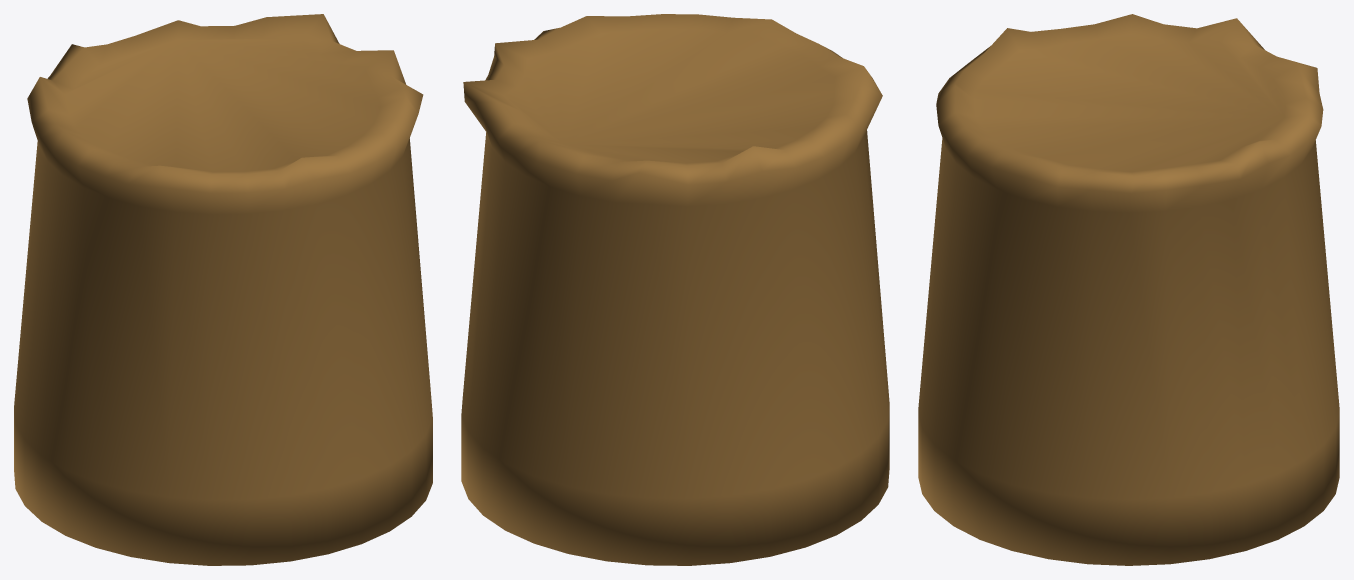
The model's file is treestump.fbx.
The picture shows the model from 3 angles, left to right: view 1: azimuth 30°, elevation 25°; view 2: azimuth 150°, elevation 25°; view 3: azimuth 270°, elevation 25°; orthographic projection. The views are drawn at different scales.
Visible parts, largest first — view 1: Cylinder; view 2: Cylinder; view 3: Cylinder.
Boxes of the visible parts, bbox=[...] form: Cylinder: bbox=[14, 14, 432, 565]; Cylinder: bbox=[461, 14, 889, 565]; Cylinder: bbox=[918, 14, 1339, 565].
Bounding box in the file's own units: 98 × 101 × 98.
